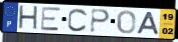A: (136, 11, 160, 36)
C: (67, 7, 90, 33)
E: (40, 7, 61, 32)
H: (17, 4, 39, 32)
O: (116, 10, 137, 35)
P: (89, 8, 112, 34)
